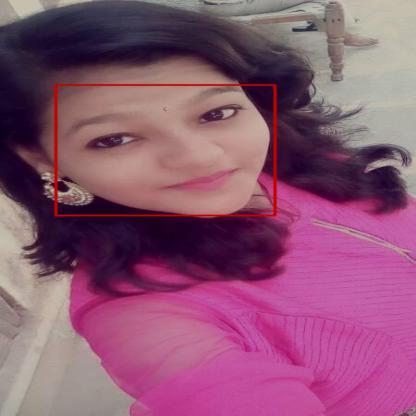without_mask: (56, 85, 275, 215)
